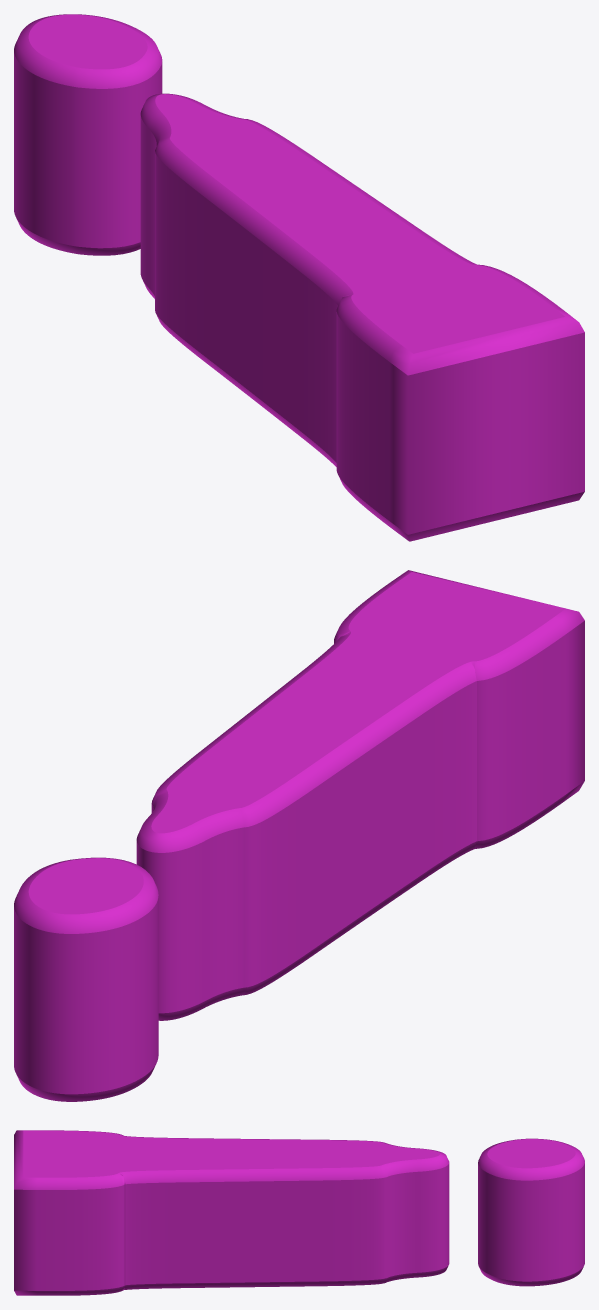
The model's file is Blocky_ExclamationMark.fbx.
3 renders of one model, top to bottom at view 1: azimuth 30°, elevation 25°; view 2: azimuth 150°, elevation 25°; view 3: azimuth 270°, elevation 25°, orthographic. The views are drawn at different scales.
Parts seen in each view (by area): view 1: BlockyExclamationMark; view 2: BlockyExclamationMark; view 3: BlockyExclamationMark.
Part boxes in pixels (x1,y1,x2,y2): BlockyExclamationMark: [14, 14, 584, 541]; BlockyExclamationMark: [14, 570, 584, 1101]; BlockyExclamationMark: [14, 1130, 584, 1295].
Bounding box in the file's own units: 0.1405 × 0.14 × 0.6152.
